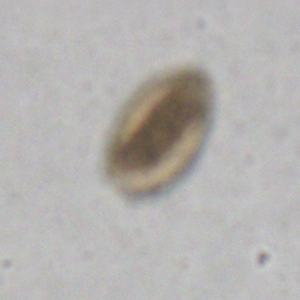Fasciola_hepatica_egg: (104, 63, 215, 200)
